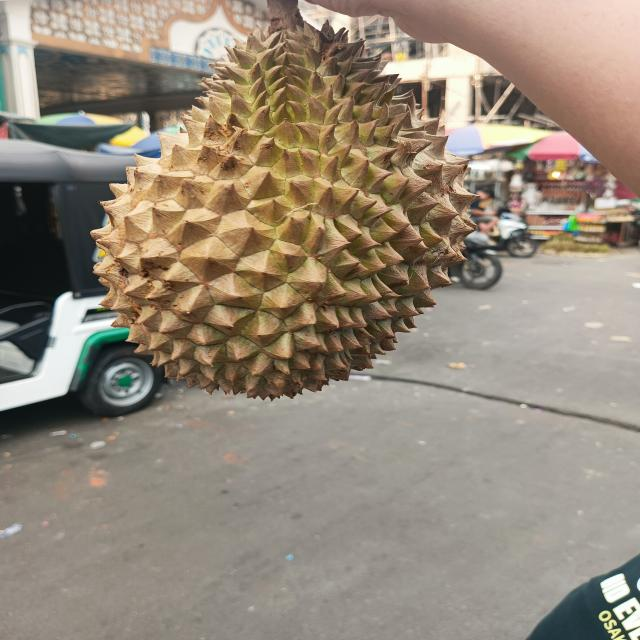mature: (90, 17, 492, 400)
